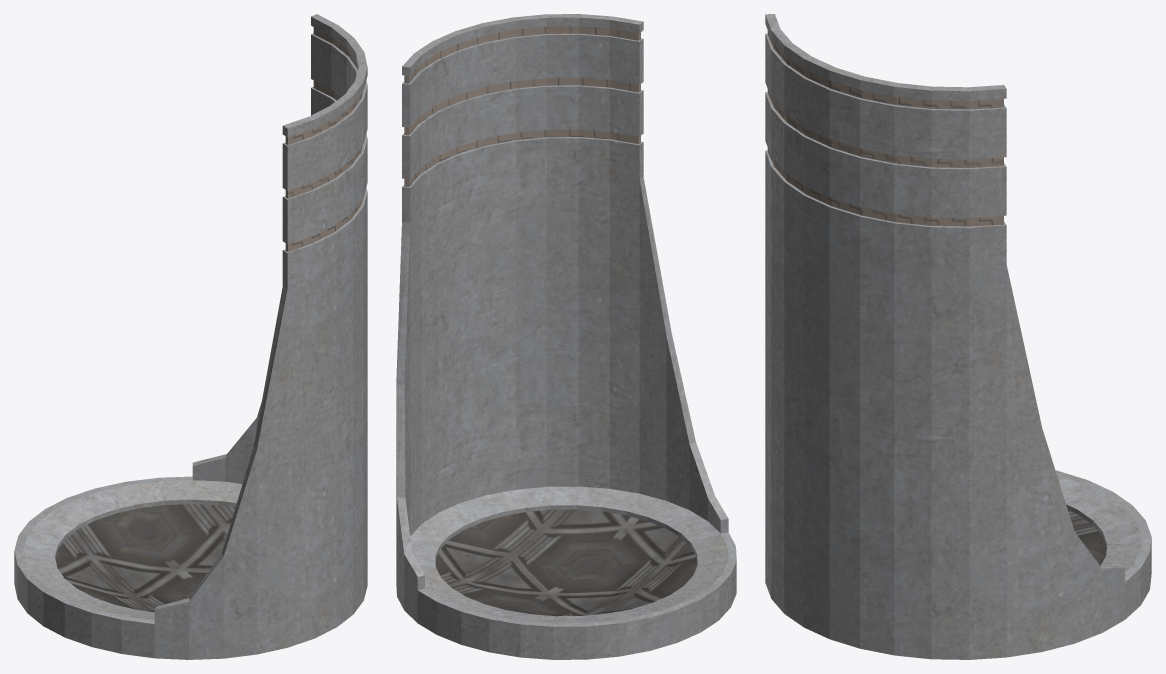
The model's file is strange2.obj.
3 views of the same model, side by side, from view 1: azimuth 30°, elevation 25°; view 2: azimuth 150°, elevation 25°; view 3: azimuth 270°, elevation 25° (orthographic). The views are drawn at different scales.
Parts seen in each view (by area): view 1: Cylinder.001_Cylinder.002; view 2: Cylinder.001_Cylinder.002; view 3: Cylinder.001_Cylinder.002.
Part boxes in pixels (<box>): Cylinder.001_Cylinder.002: <box>14,14,367,659</box>; Cylinder.001_Cylinder.002: <box>396,14,736,659</box>; Cylinder.001_Cylinder.002: <box>765,14,1151,659</box>.
Bounding box in the file's own units: 99.85 × 162 × 99.85.
